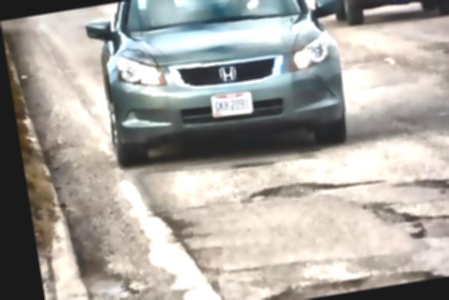pothole: (251, 261, 442, 300), (245, 175, 333, 209)
